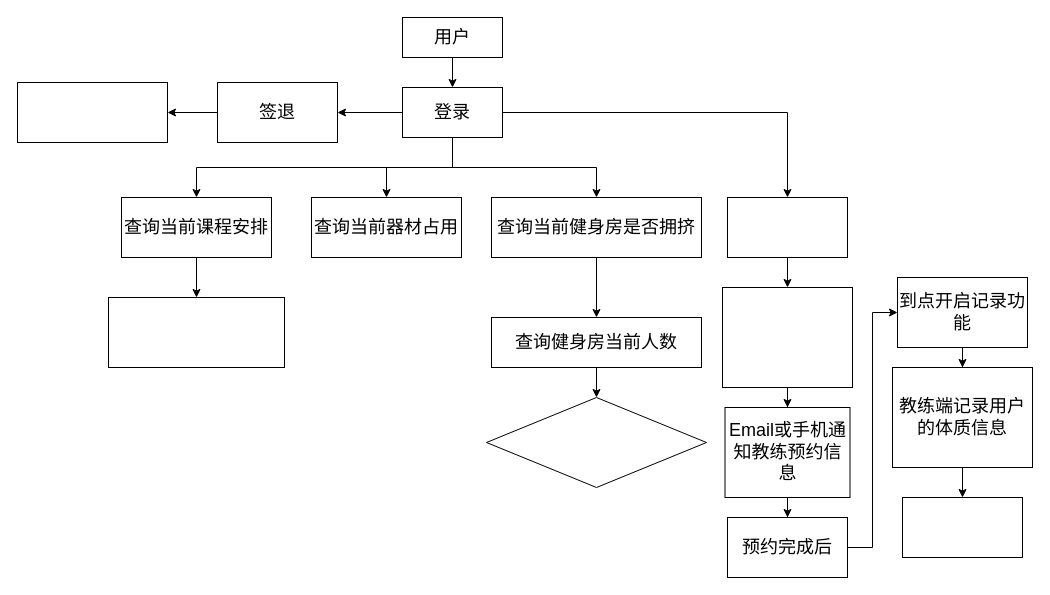
This 1050x595 diagram has some shape labels left out. The centre of each missing label's shape, as x and y in pixels:
"人数>50人则为拥挤" belongs at (x=596, y=442).
"保存数据库" belongs at (x=962, y=527).
"归还人数以及器材" belongs at (x=92, y=112).
"查询自己报名的课程" belongs at (x=196, y=332).
"输入: 教练ID 检测时间" belongs at (x=787, y=337).
"预约体质检测" belongs at (x=787, y=227).
